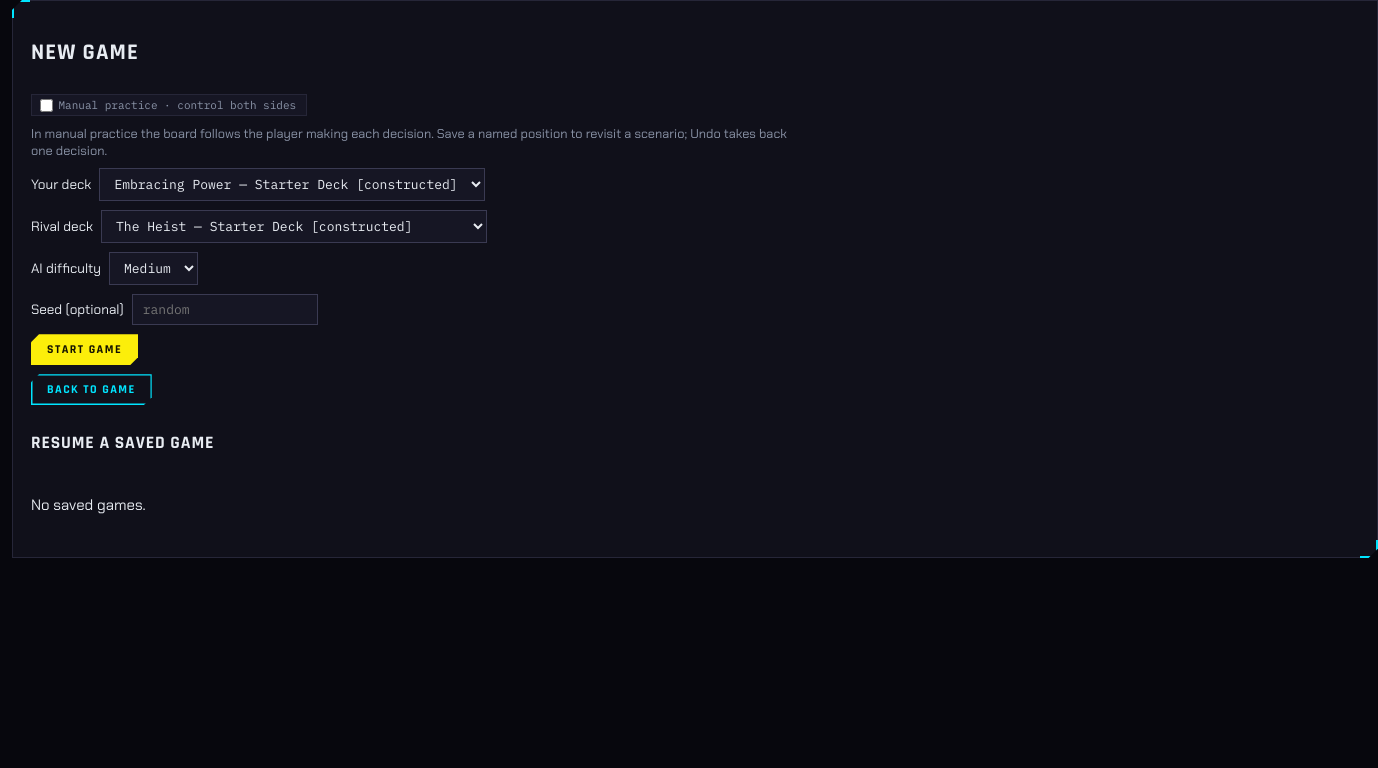
Test case: human payment selection › renders the current public trash during an effect choice
The image size is (1378, 768).
Click the button with test id "cancel-setup": (91, 390) [31,374,152,405]
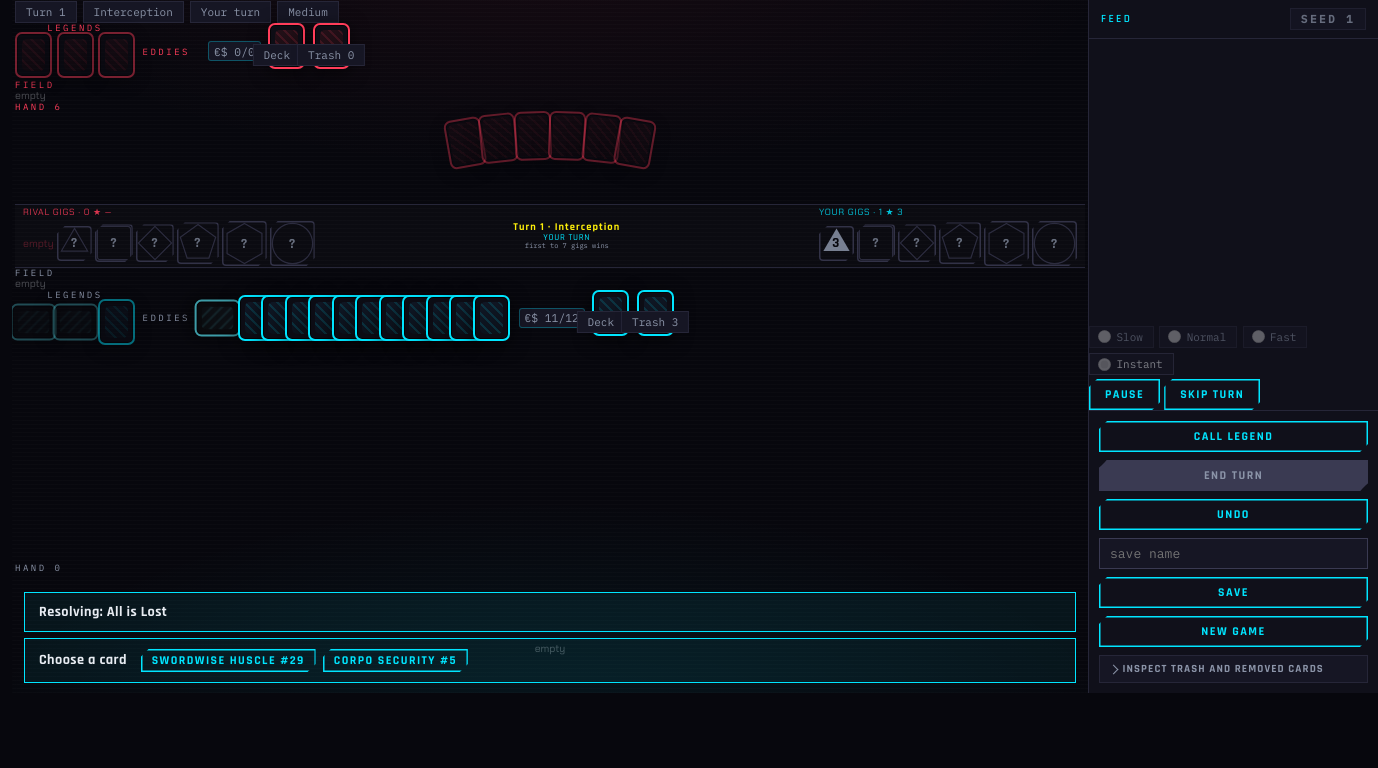
expect the element with test id "resolving-programs" shows "All is Lost": met, box [107,603,167,621]
